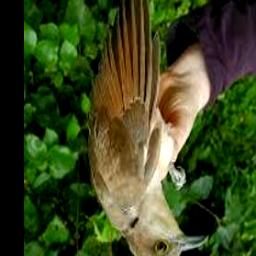Cuckoo: (87, 0, 208, 256)
